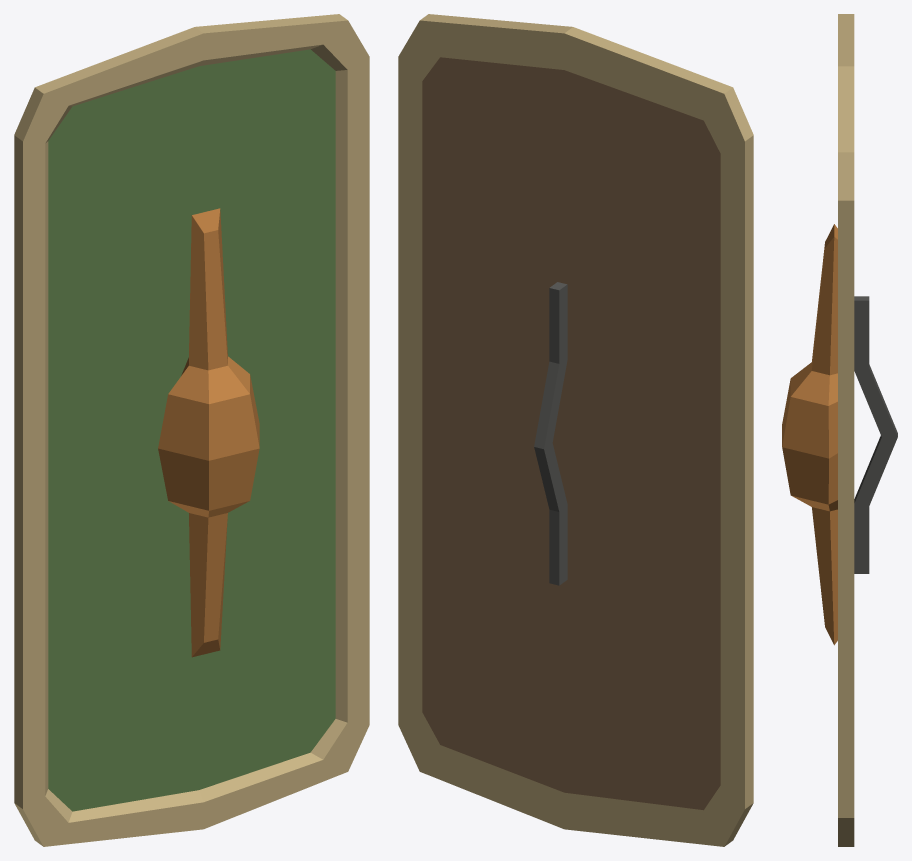
The model's file is SM_pwe_gauls_shield_10a.fbx.
3 views of the same model, side by side, from view 1: azimuth 30°, elevation 25°; view 2: azimuth 150°, elevation 25°; view 3: azimuth 270°, elevation 25° (orthographic). The views are drawn at different scales.
Visible parts, largest first — view 1: SM_pwe_gauls_shield_10a; view 2: SM_pwe_gauls_shield_10a; view 3: SM_pwe_gauls_shield_10a.
Part boxes in pixels (left/top/right/bottom): SM_pwe_gauls_shield_10a: left=14, top=14, right=369, bottom=846; SM_pwe_gauls_shield_10a: left=398, top=14, right=753, bottom=846; SM_pwe_gauls_shield_10a: left=782, top=14, right=897, bottom=846.
Bounding box in the file's own units: 53.63 × 118 × 16.76.
